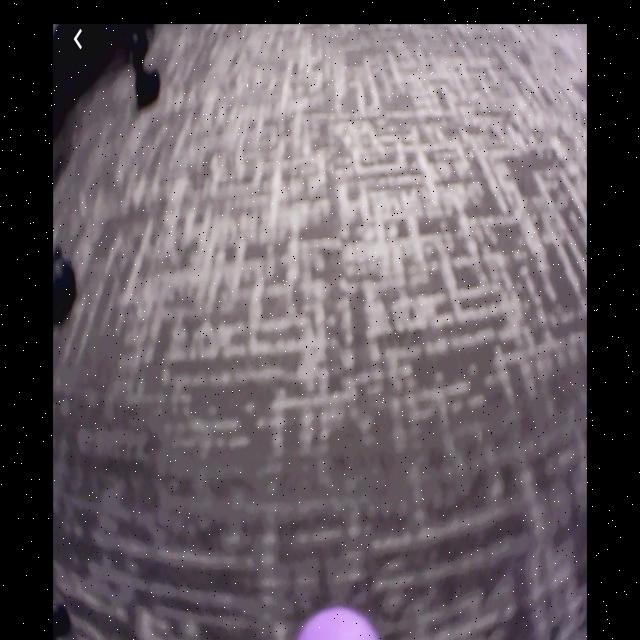ball: (297, 607, 380, 640)
